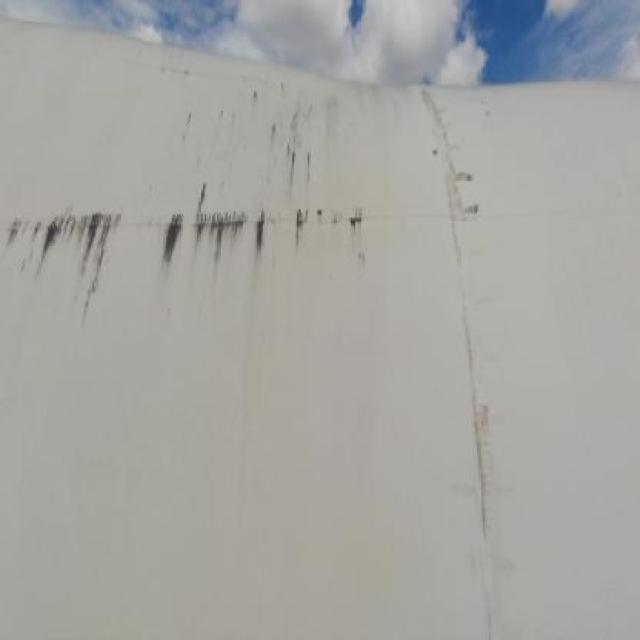Scartch: (1, 133, 384, 321)
